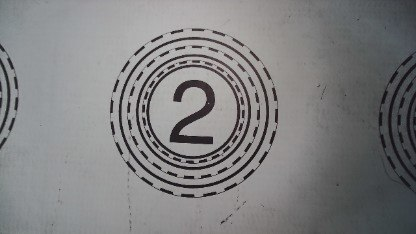2r: (108, 27, 278, 197)
